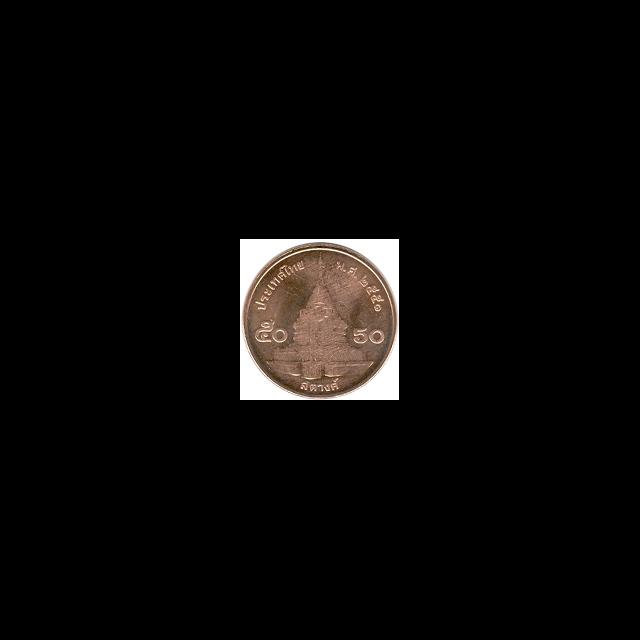50-satang: (242, 240, 399, 400)
